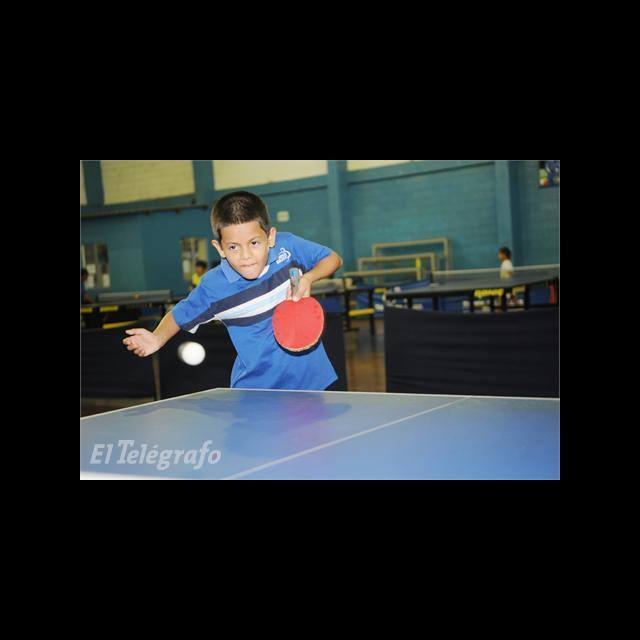ping-pong-ball: (180, 341, 206, 366)
